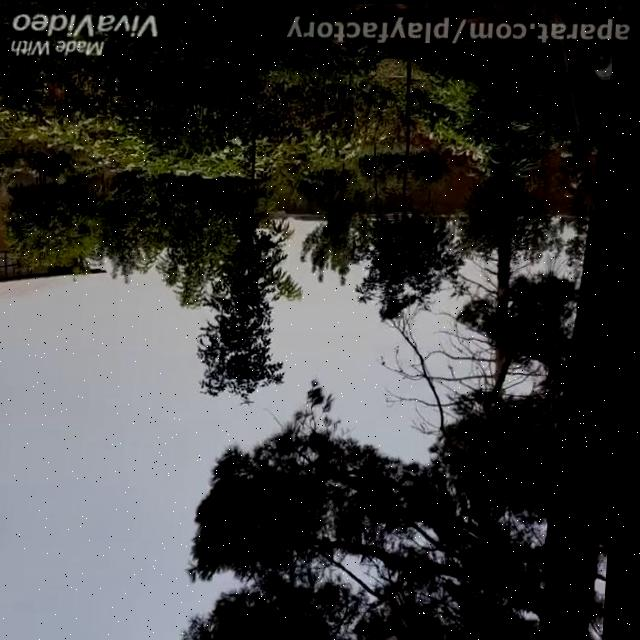drone: (241, 397, 263, 411)
